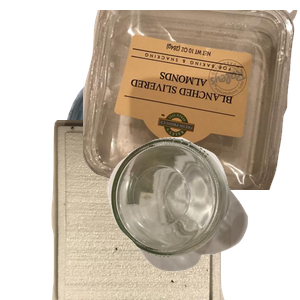glass: (105, 135, 300, 300)
metal: (60, 44, 300, 224)
plastic: (83, 10, 300, 190)
trash: (49, 120, 269, 300)
